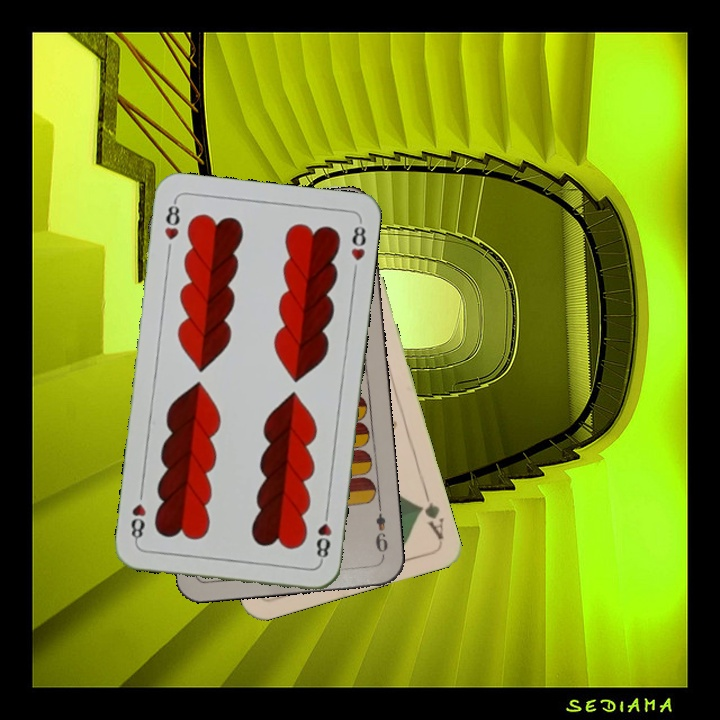E9: (371, 501, 391, 560)
GA: (413, 484, 447, 542)
H8: (312, 506, 334, 565), (160, 197, 182, 243)
